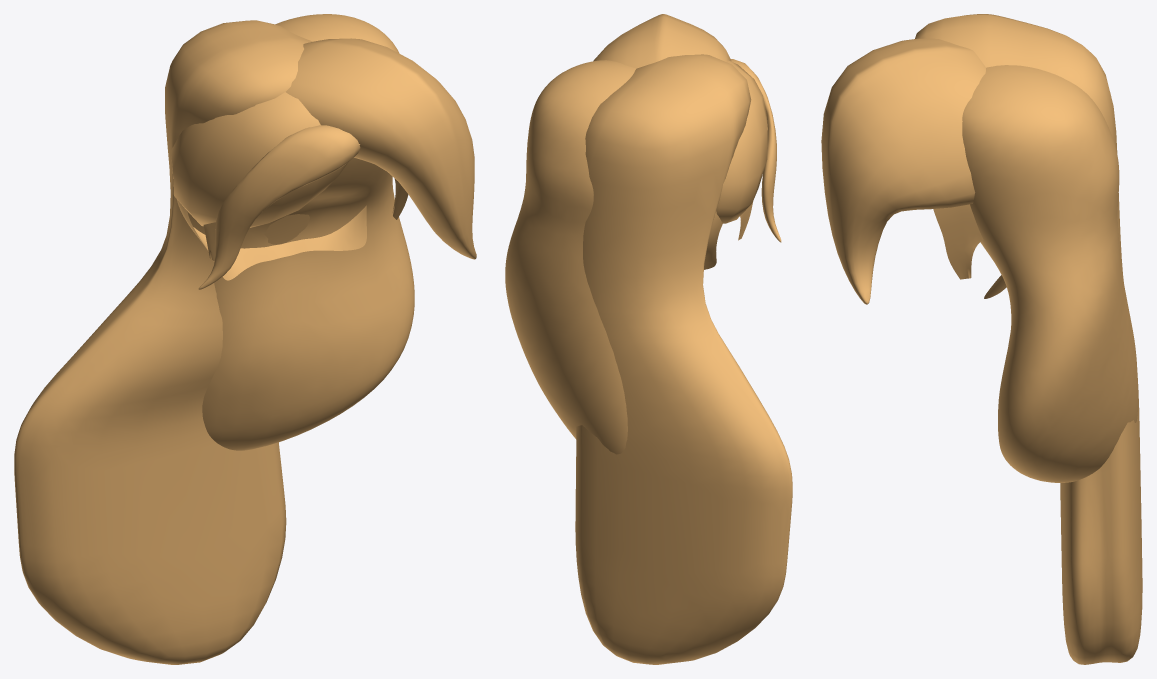
Rendered from hair-001-711a3084.glb.
3 renders of one model, left to right at view 1: azimuth 30°, elevation 25°; view 2: azimuth 150°, elevation 25°; view 3: azimuth 270°, elevation 25°, orthographic. The views are drawn at different scales.
Visible parts, largest first — view 1: Geo_Female_White_Hair.011; view 2: Geo_Female_White_Hair.011; view 3: Geo_Female_White_Hair.011.
Part boxes in pixels (left/top/right/bottom): Geo_Female_White_Hair.011: left=14, top=14, right=476, bottom=664; Geo_Female_White_Hair.011: left=505, top=14, right=792, bottom=664; Geo_Female_White_Hair.011: left=821, top=14, right=1142, bottom=664.
Bounding box in the file's own units: 2.74 × 4.75 × 2.15.
